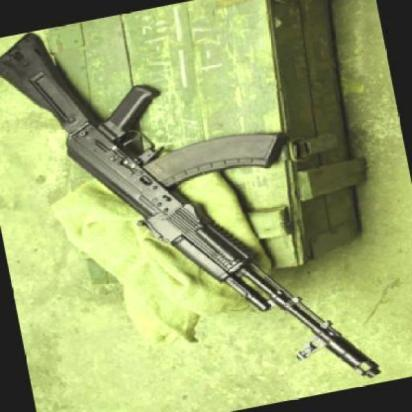Gun: (0, 33, 382, 381)
